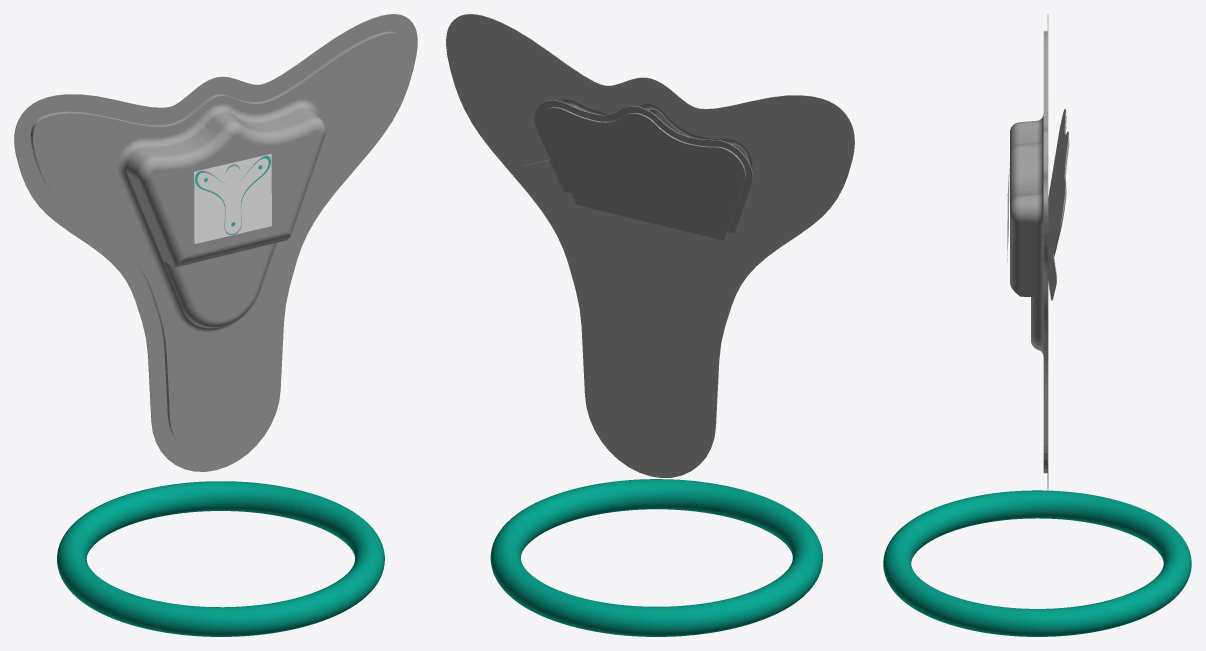
3 views of the same model, side by side, from view 1: azimuth 30°, elevation 25°; view 2: azimuth 150°, elevation 25°; view 3: azimuth 270°, elevation 25° (orthographic). The views are drawn at different scales.
Parts seen in each view (by area): view 1: VS-100-E3, Torus.004, Icone_patch_Inomedis; view 2: VS-100-E3, Torus.004; view 3: Torus.004, VS-100-E3.
Boxes of the visible parts, x1,y1,x2,y2 form: VS-100-E3: [14, 14, 417, 471]; Torus.004: [57, 481, 384, 636]; Icone_patch_Inomedis: [194, 153, 271, 243]; VS-100-E3: [446, 14, 854, 477]; Torus.004: [490, 479, 822, 636]; Torus.004: [883, 490, 1191, 636]; VS-100-E3: [1010, 14, 1069, 490].
Size of the model in its own units: 2.76 by 3.35 by 1.95.
3 materials, 1 textured.
